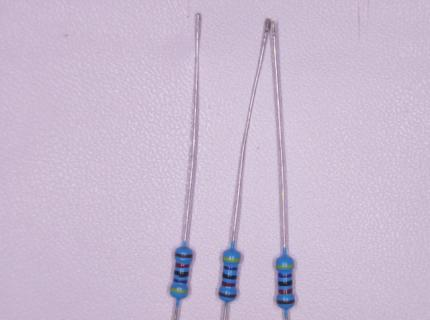Black band: (174, 270, 189, 277), (222, 273, 237, 279), (278, 280, 292, 286)
Brown band: (219, 291, 237, 298), (175, 252, 193, 258), (277, 299, 295, 305)
Red band: (175, 262, 190, 268), (278, 288, 292, 294), (222, 281, 236, 286)
Violet band: (173, 278, 187, 284), (223, 265, 238, 270), (278, 273, 292, 278)
Yellow band: (170, 287, 188, 293), (222, 256, 241, 261), (276, 264, 294, 269)
